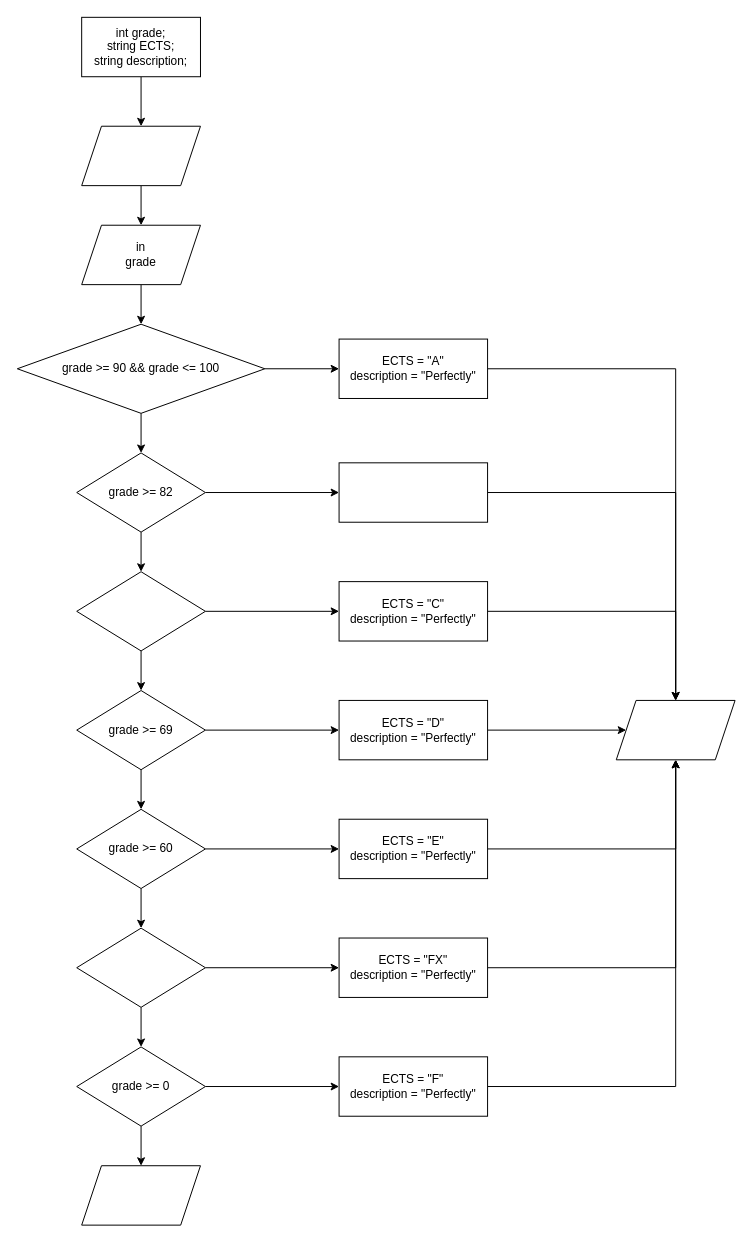
Some shapes in this 752 by 1242 pixel diagram are drawn without their labels. Each missing label, with the box of its shape:
ECTS = "B" description = "Perfectly": (338, 462, 488, 522)
grade >= 35: (76, 927, 205, 1007)
grade >= 75: (76, 571, 205, 651)
out ECTS description: (615, 699, 735, 760)
out Enter grade:: (81, 125, 200, 186)
out Error: (81, 1165, 200, 1225)
